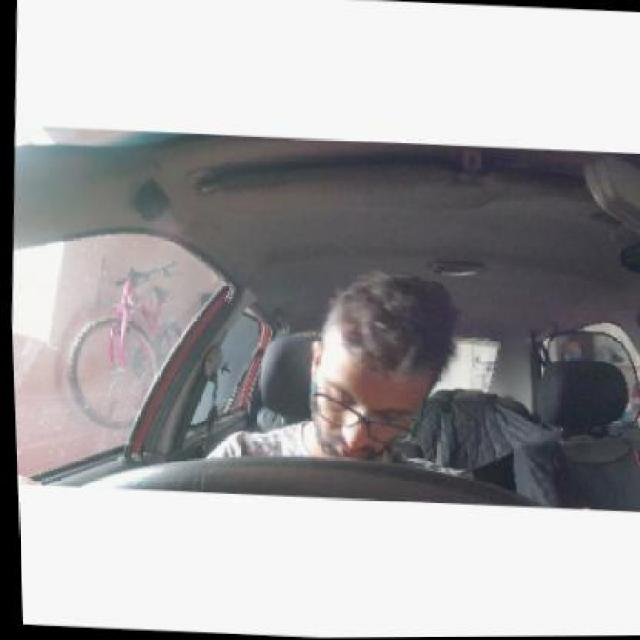drowsy: (304, 256, 458, 464)
